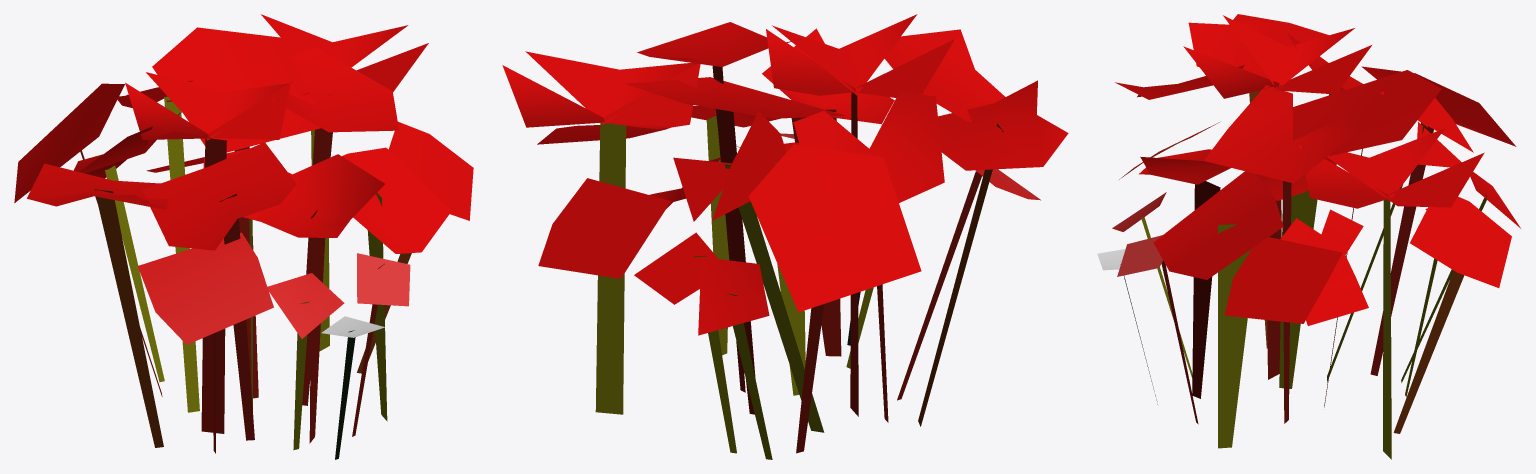
The model's file is Var2_LOD3.fbx.
The picture shows the model from 3 angles, left to right: view 1: azimuth 30°, elevation 25°; view 2: azimuth 150°, elevation 25°; view 3: azimuth 270°, elevation 25°; orthographic projection. The views are drawn at different scales.
Visible parts, largest first — view 1: _f4e2_Var2_LOD3; view 2: _f4e2_Var2_LOD3; view 3: _f4e2_Var2_LOD3.
Part boxes in pixels (bbox=[...]): _f4e2_Var2_LOD3: bbox=[14, 14, 473, 459]; _f4e2_Var2_LOD3: bbox=[502, 14, 1068, 459]; _f4e2_Var2_LOD3: bbox=[1097, 14, 1520, 459].
Bounding box in the file's own units: 29.07 × 20.75 × 23.98.
